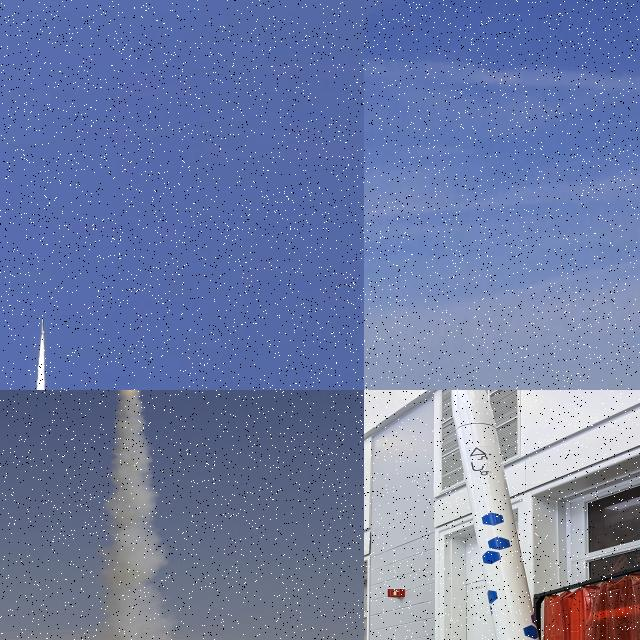Rocket: (450, 390, 539, 640), (40, 315, 44, 335)
